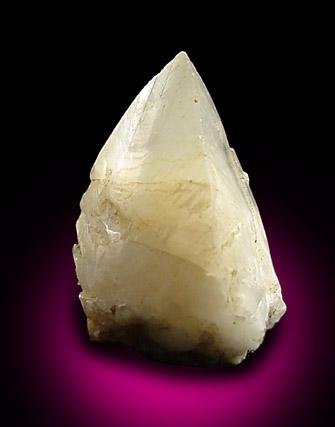calcite: (73, 52, 286, 366)
